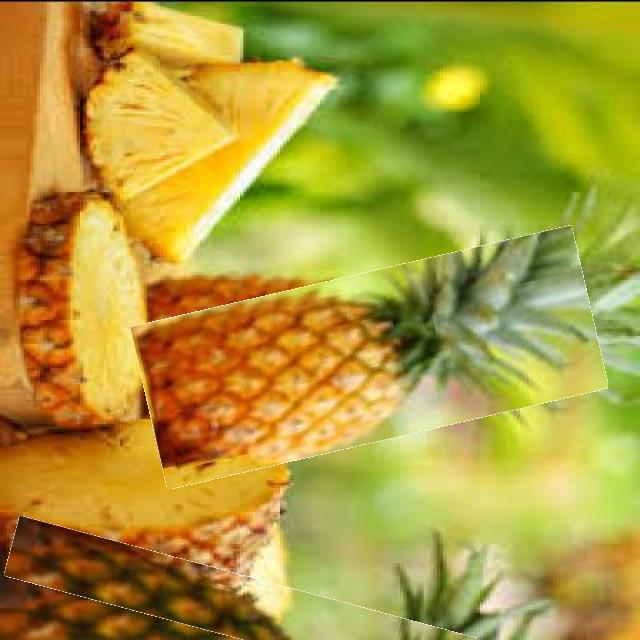Pineapple: (137, 250, 602, 465), (4, 545, 478, 640)
